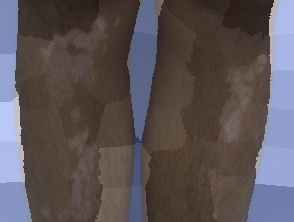vitiligo: (25, 7, 127, 222), (202, 40, 275, 222)
